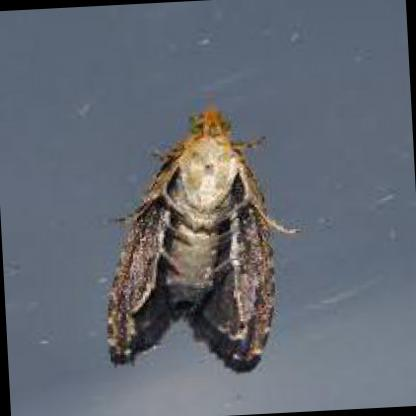Leaf Webber: (91, 96, 303, 379)
